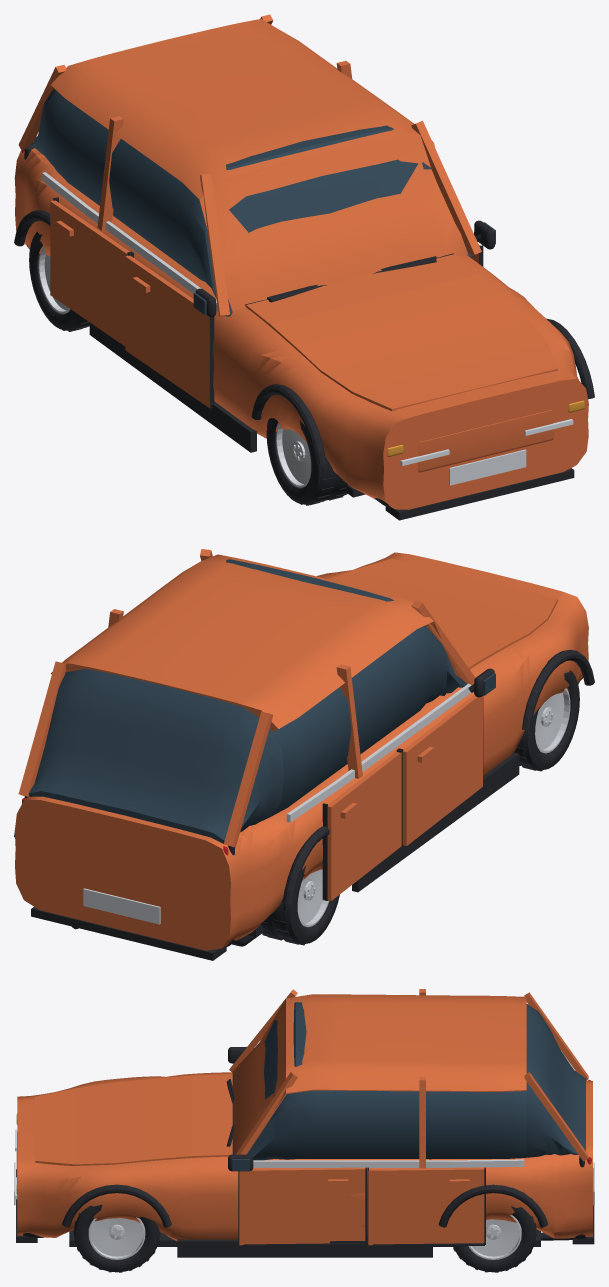
Rendered from ElectricHatchHD.fbx.
3 renders of one model, top to bottom at view 1: azimuth 30°, elevation 25°; view 2: azimuth 150°, elevation 25°; view 3: azimuth 270°, elevation 25°, orthographic. The views are drawn at different scales.
Parts seen in each view (by area): view 1: body_electric-hatchback_0, body_bonnet.001, glass_electric-hatchback_2, trim_electric-hatchback_1, body_door-front-left.001, body_door-rear-left.001, rim_electric-hatchback_6, trim_wheel-front-left_trim, rim_wheel-front-left_alloy, trim_wheel-rear-left_trim, rim_wheel-rear-left_alloy; view 2: body_electric-hatchback_0, glass_boot_glass, glass_electric-hatchback_2, body_bonnet.001, trim_electric-hatchback_1, body_door-front-left.001, body_door-rear-left.001, rim_electric-hatchback_6, trim_wheel-rear-left_trim, trim_wheel-front-left_trim, rim_wheel-front-left_alloy, rim_wheel-rear-left_alloy; view 3: body_electric-hatchback_0, glass_electric-hatchback_2, body_bonnet.001, body_door-front-right.001, trim_electric-hatchback_1, body_door-rear-right.001, glass_boot_glass, rim_electric-hatchback_6, trim_wheel-front-right_trim, rim_wheel-front-right_alloy, trim_wheel-rear-right_trim, rim_wheel-rear-right_alloy.
Boxes of the visible parts, box(x1,y1,x2,y2) form: body_electric-hatchback_0: box(14, 14, 588, 509); body_bonnet.001: box(246, 254, 557, 411); glass_electric-hatchback_2: box(44, 90, 495, 316); trim_electric-hatchback_1: box(14, 146, 594, 520); body_door-front-left.001: box(125, 255, 209, 407); body_door-rear-left.001: box(50, 200, 129, 346); rim_electric-hatchback_6: box(42, 172, 526, 485); trim_wheel-front-left_trim: box(266, 418, 347, 505); rim_wheel-front-left_alloy: box(276, 423, 311, 487); trim_wheel-rear-left_trim: box(29, 231, 89, 331); rim_wheel-rear-left_alloy: box(38, 247, 70, 313); body_electric-hatchback_0: box(14, 549, 588, 950); glass_boot_glass: box(29, 669, 284, 843); glass_electric-hatchback_2: box(83, 559, 495, 815); body_bonnet.001: box(329, 558, 557, 669); trim_electric-hatchback_1: box(14, 649, 594, 960); body_door-front-left.001: box(402, 695, 482, 845); body_door-rear-left.001: box(327, 751, 401, 900); rim_electric-hatchback_6: box(83, 683, 471, 924); trim_wheel-rear-left_trim: box(260, 865, 339, 945); trim_wheel-front-left_trim: box(514, 670, 579, 771); rim_wheel-front-left_alloy: box(535, 688, 570, 753); rim_wheel-rear-left_alloy: box(297, 869, 329, 927); body_electric-hatchback_0: box(16, 989, 592, 1241); glass_electric-hatchback_2: box(232, 1002, 526, 1170); body_bonnet.001: box(35, 1074, 232, 1165); body_door-front-right.001: box(239, 1167, 365, 1245); trim_electric-hatchback_1: box(16, 1047, 594, 1257); body_door-rear-right.001: box(368, 1167, 484, 1245); glass_boot_glass: box(527, 1004, 585, 1157); rim_electric-hatchback_6: box(14, 1159, 594, 1205); trim_wheel-front-right_trim: box(73, 1204, 160, 1272); rim_wheel-front-right_alloy: box(88, 1217, 145, 1259); trim_wheel-rear-right_trim: box(453, 1206, 536, 1272); rim_wheel-rear-right_alloy: box(468, 1215, 521, 1259).
Bounding box in the file's own units: 208 × 166 × 453.
